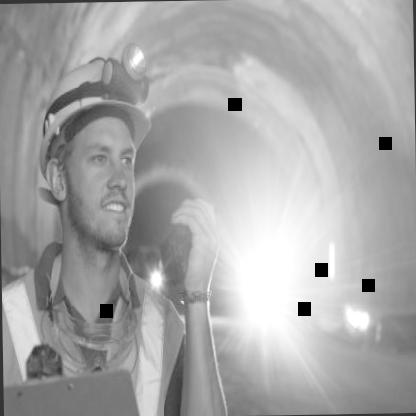helmet: (31, 38, 167, 276)
